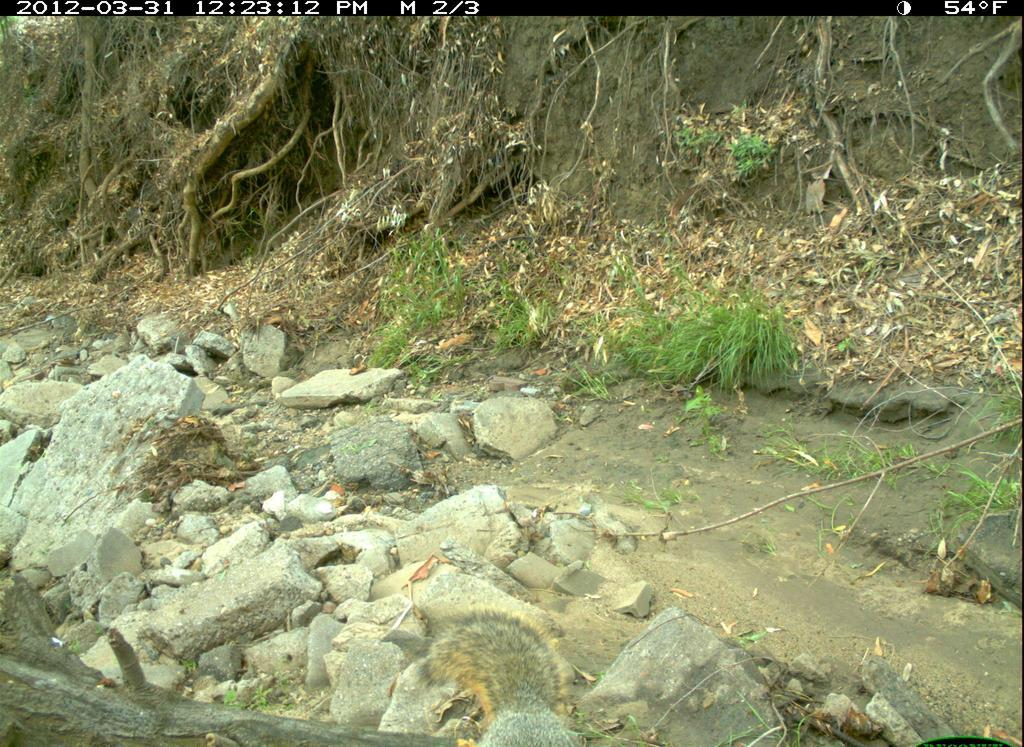squirrel: (406, 596, 587, 747)
